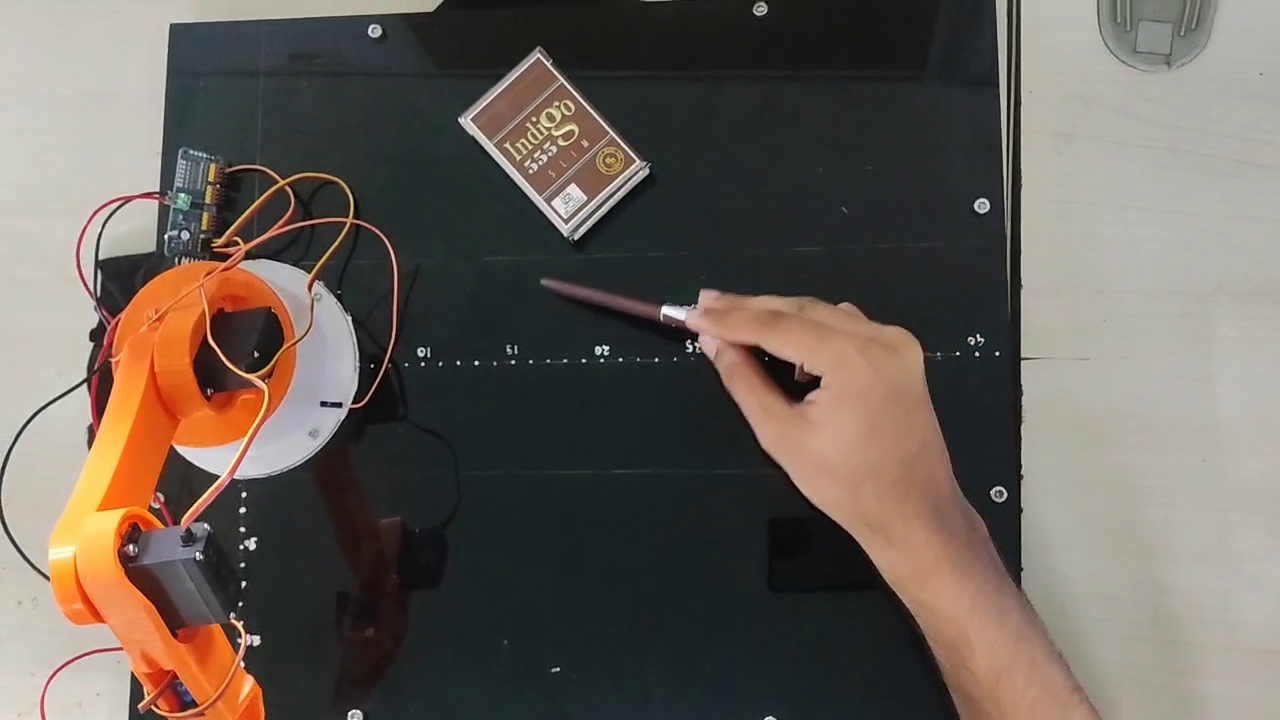BEX: (468, 55, 638, 225)
